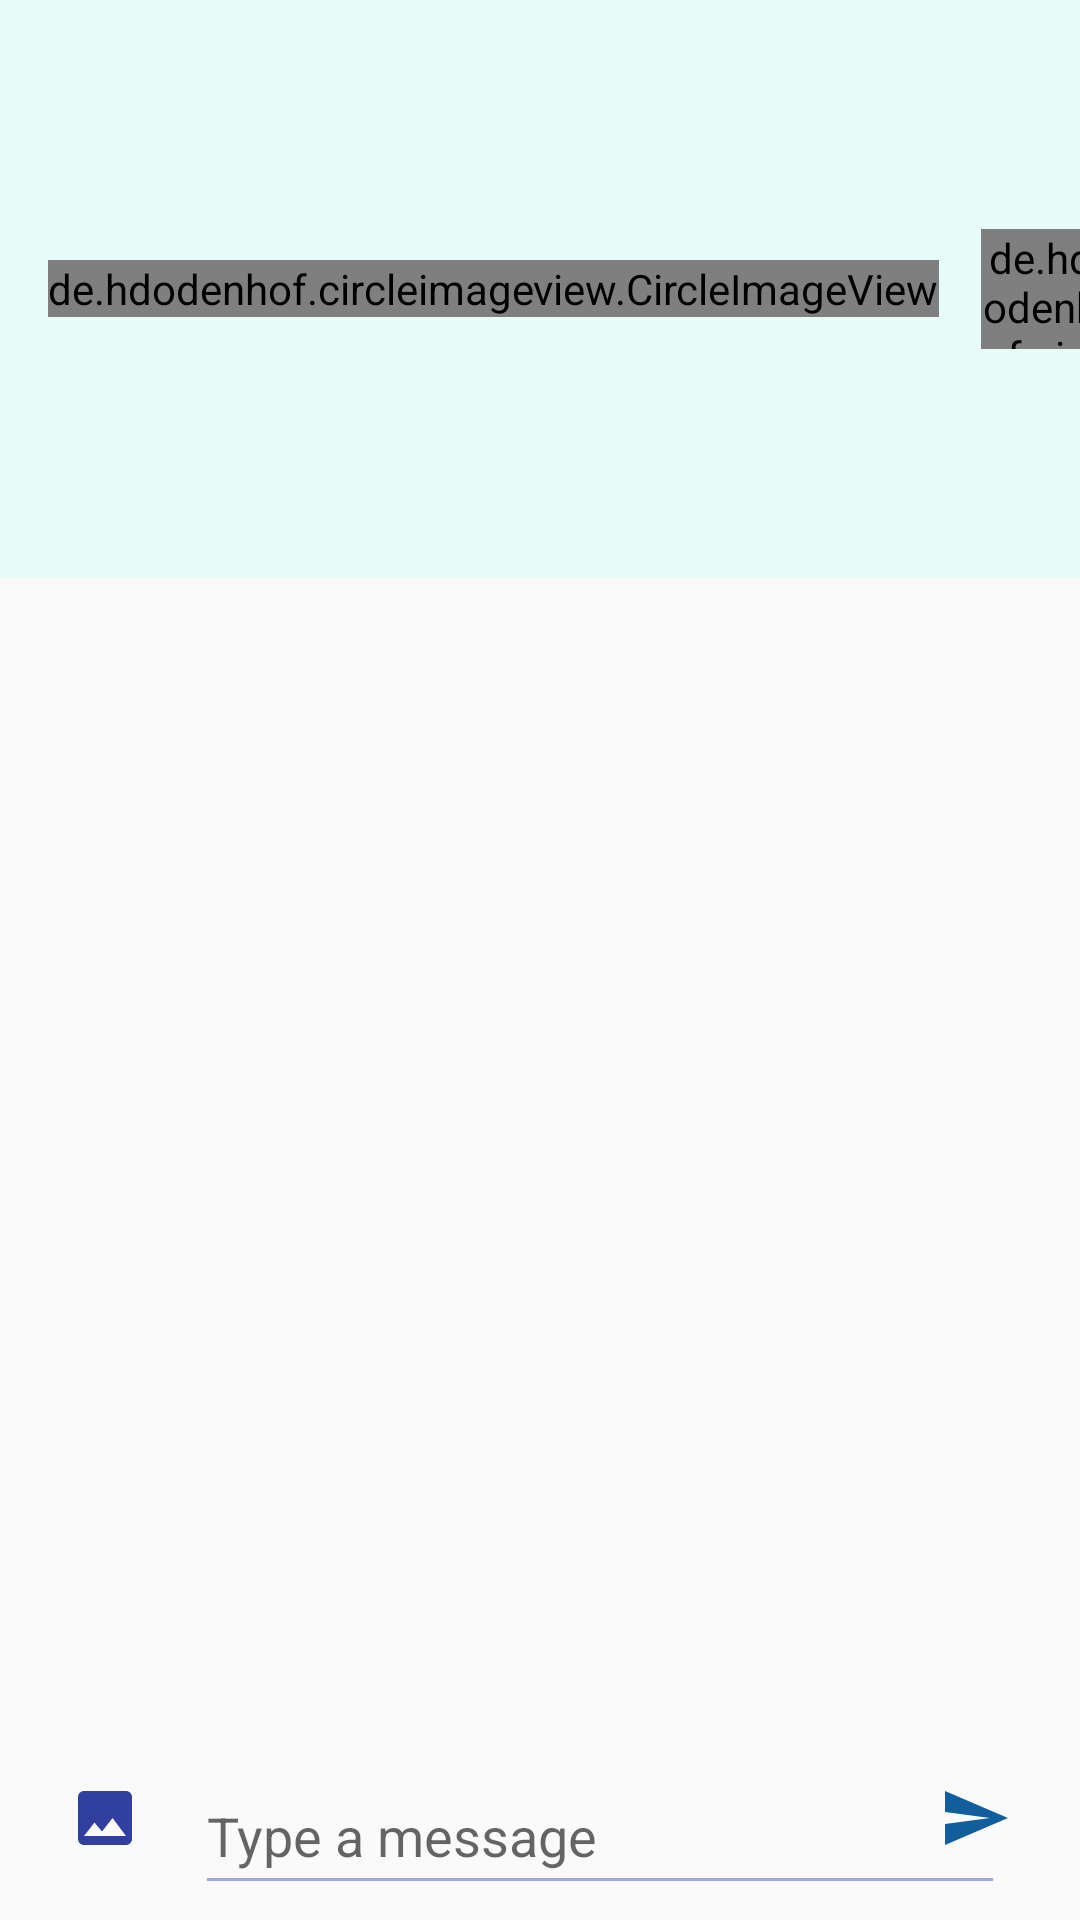

Point at icon controls on the screen. Image size 1080*1920, points as (x=x, y=y).
pic click: (x=105, y=1818)
send: (x=976, y=1818)
